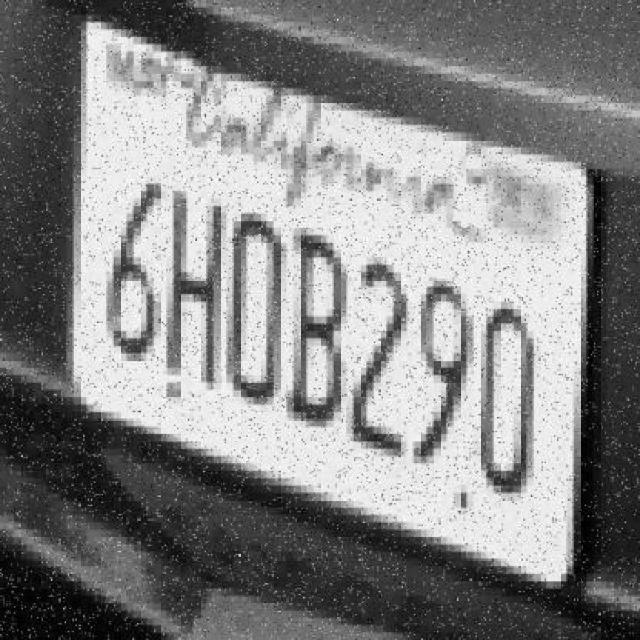licenseplate: (33, 6, 613, 603)
